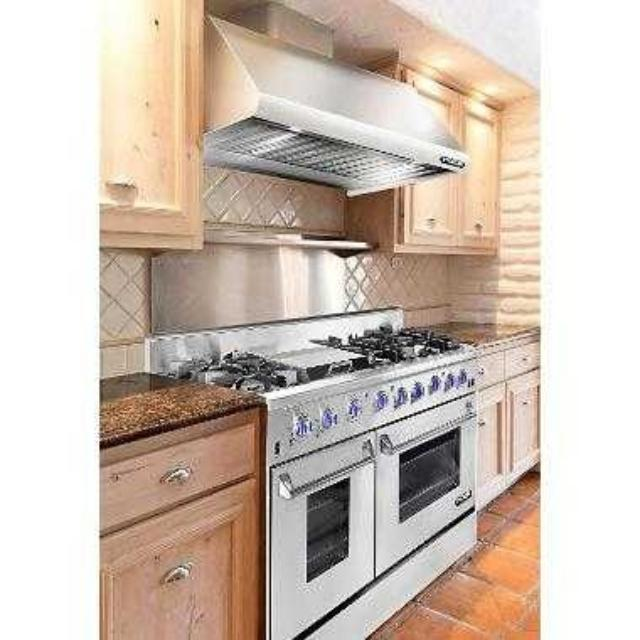Oven: (260, 372, 374, 618), (377, 339, 478, 586)
